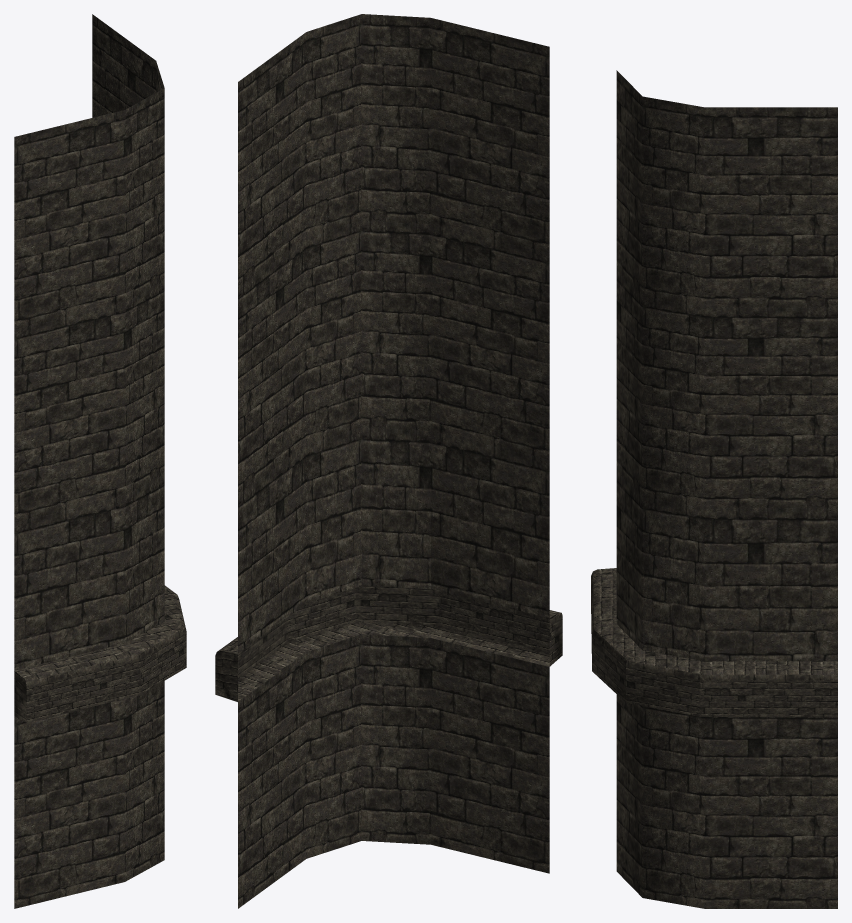
Rendered from wallBlockOCR.fbx.
3 views of the same model, side by side, from view 1: azimuth 30°, elevation 25°; view 2: azimuth 150°, elevation 25°; view 3: azimuth 270°, elevation 25° (orthographic). The views are drawn at different scales.
Parts seen in each view (by area): view 1: polySurface73; view 2: polySurface73; view 3: polySurface73.
Boxes of the visible parts, bbox=[...] form: polySurface73: bbox=[14, 14, 186, 908]; polySurface73: bbox=[215, 14, 562, 908]; polySurface73: bbox=[591, 70, 837, 908].
Bounding box in the file's own units: 2.23 × 8 × 2.23.
1 material, 1 textured.
